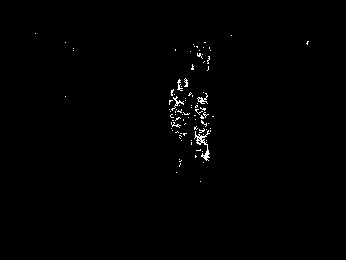person: (168, 79, 193, 169), (193, 90, 213, 163)
